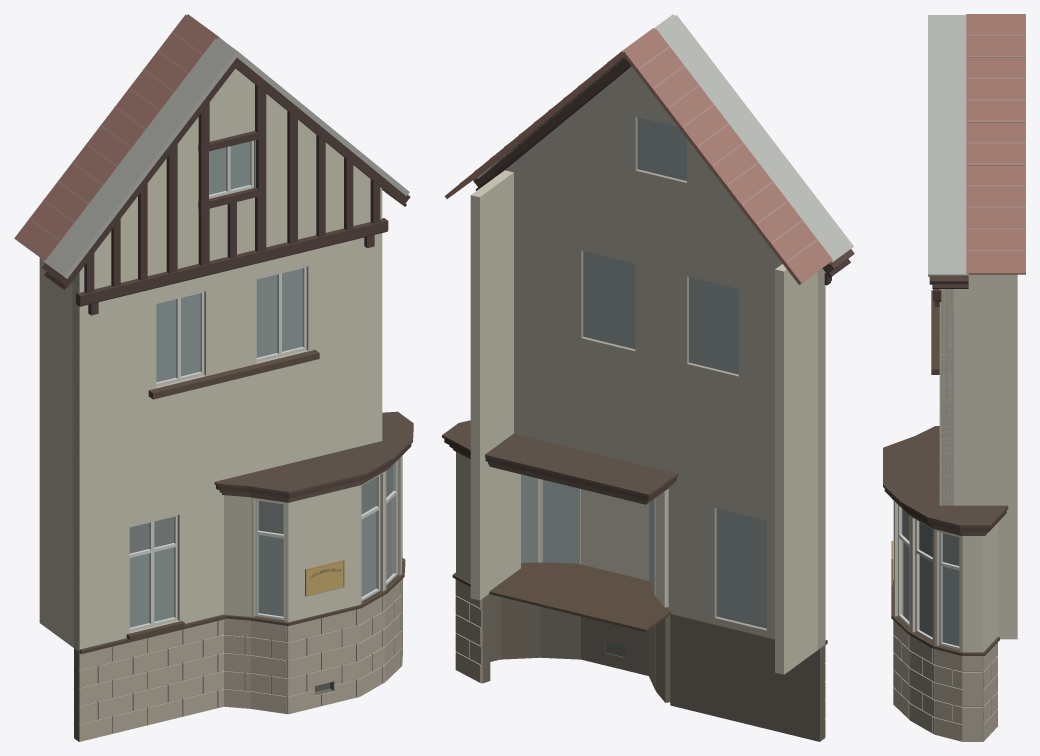
Rendered from jingan-liu-residence-changle-courtyard-gable-lod.glb.
3 renders of one model, left to right at view 1: azimuth 30°, elevation 25°; view 2: azimuth 150°, elevation 25°; view 3: azimuth 270°, elevation 25°, orthographic. The views are drawn at different scales.
Parts seen in each view (by area): view 1: 刘氏花园住宅长乐路庭院露木山墙与折面凸窗; view 2: 刘氏花园住宅长乐路庭院露木山墙与折面凸窗; view 3: 刘氏花园住宅长乐路庭院露木山墙与折面凸窗.
Part boxes in pixels (box(x1,y1,x2,y2)): 刘氏花园住宅长乐路庭院露木山墙与折面凸窗: box(14, 14, 413, 741); 刘氏花园住宅长乐路庭院露木山墙与折面凸窗: box(442, 14, 854, 741); 刘氏花园住宅长乐路庭院露木山墙与折面凸窗: box(883, 14, 1025, 741).
Size of the model in its own units: 7.55 by 12.93 by 2.62.
